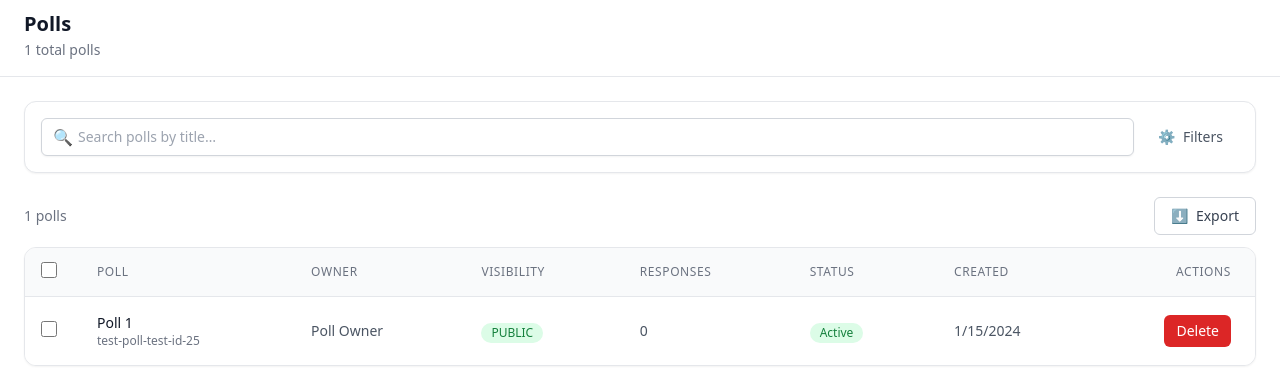
Test: AdminPollsPage › cancels deletion when Cancel is clicked
Expected: the table is shown, [25,248,1255,365]
Click the button "Delete" at (1198, 331), box [1164,315,1231,347]
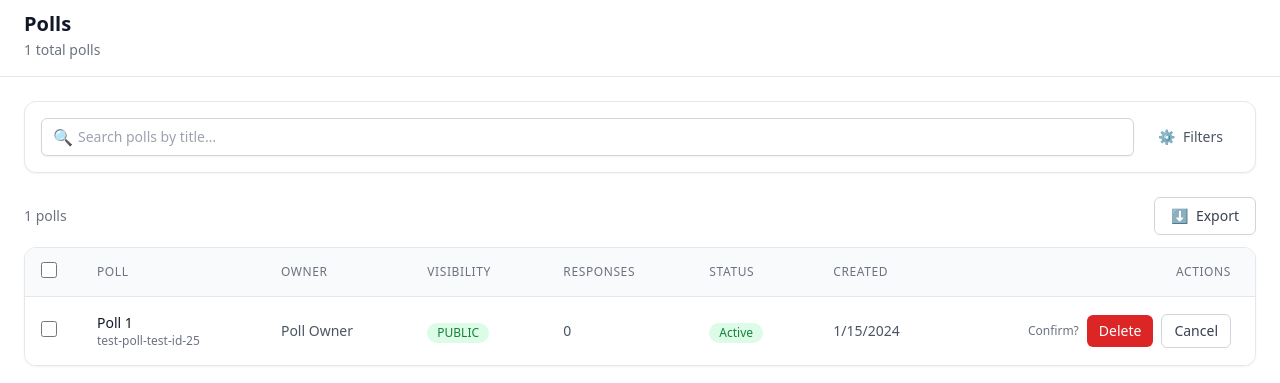
Click the button "Cancel" at (1196, 331), box [1161,314,1231,348]
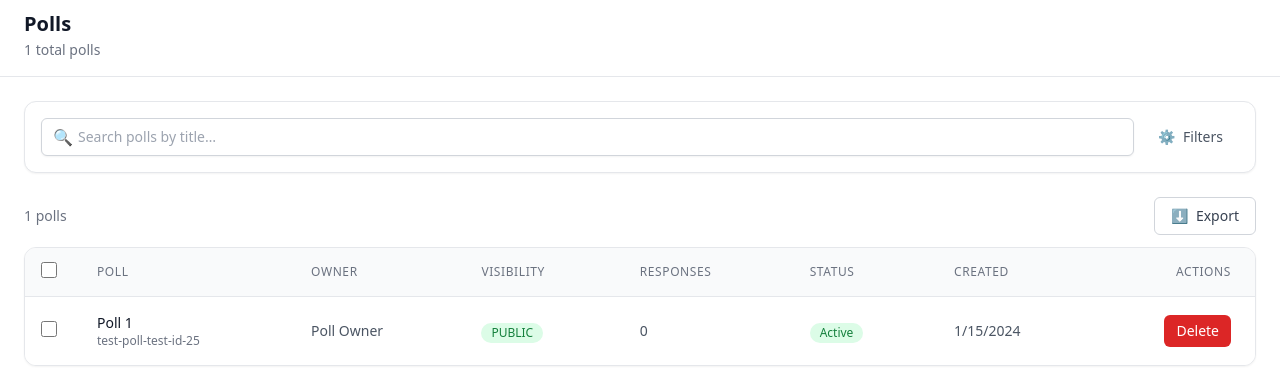
Result: the text "Confirm?" is gone
